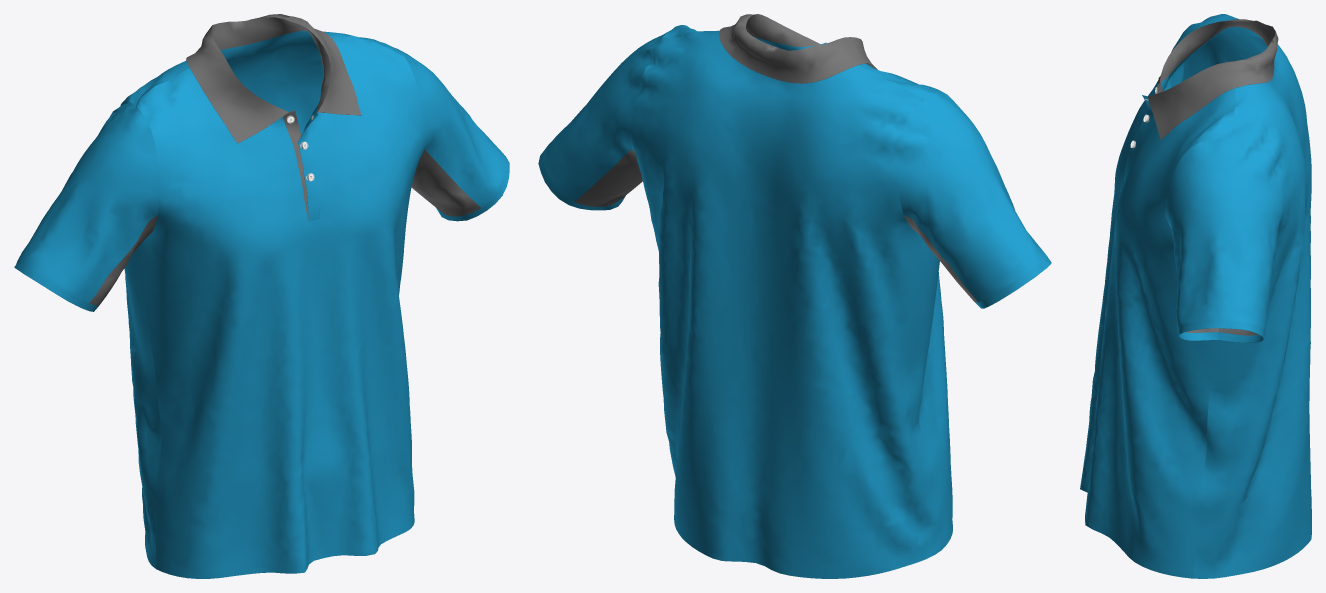
File: camiseta azul.glb
3 renders of one model, left to right at view 1: azimuth 30°, elevation 25°; view 2: azimuth 150°, elevation 25°; view 3: azimuth 270°, elevation 25°, orthographic. The views are drawn at different scales.
Visible parts, largest first — view 1: Object_18, Object_14; view 2: Object_18, Object_14; view 3: Object_18, Object_14.
Part boxes in pixels (x1,y1,x2,y2): Object_18: (14,31,509,578); Object_14: (89,14,480,305); Object_18: (538,25,1051,578); Object_14: (574,14,977,302); Object_18: (1080,14,1311,578); Object_14: (1148,19,1278,335).
Size of the model in its own units: 1367 by 1340 by 581.
